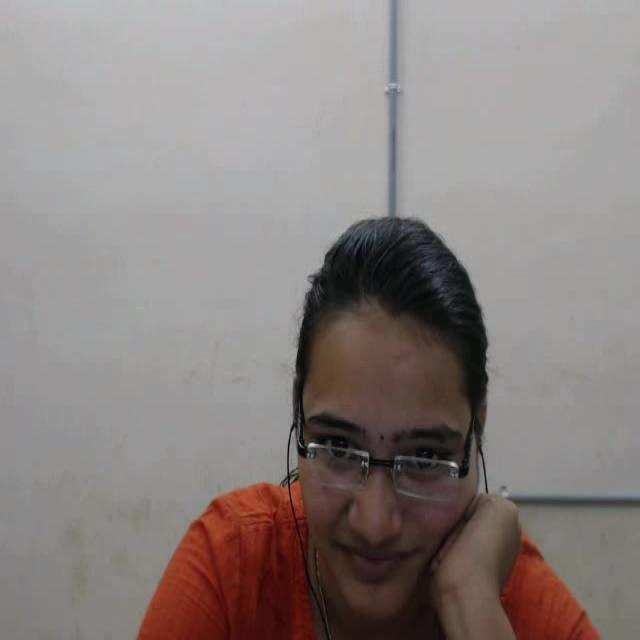Bored: (260, 190, 535, 640)
